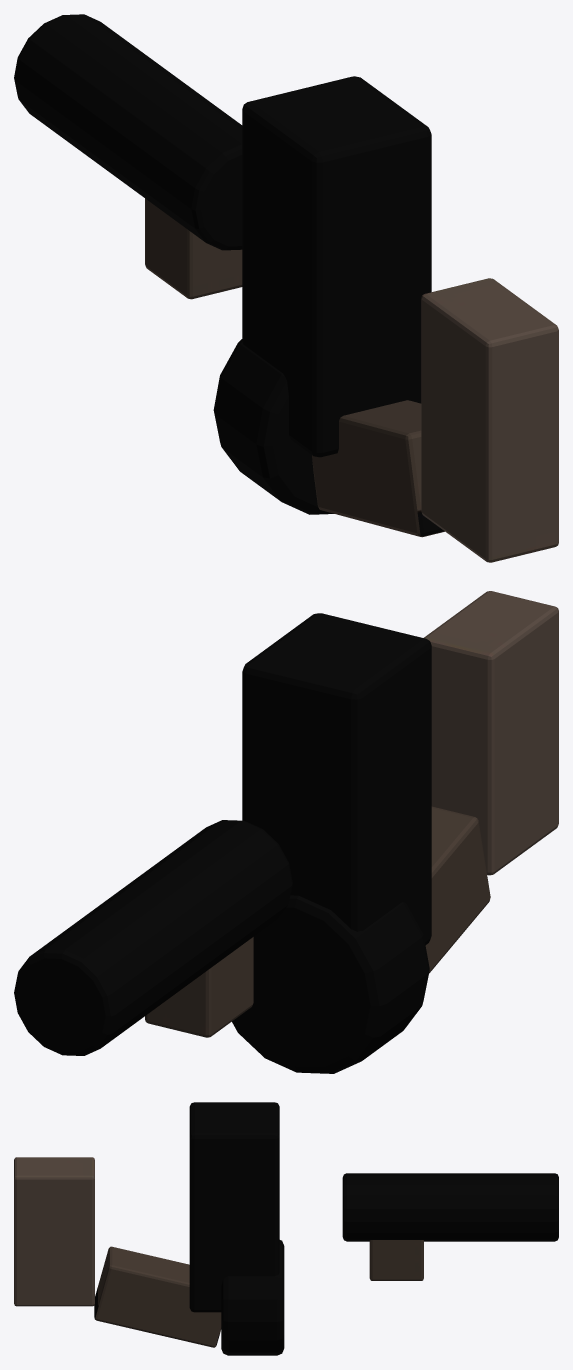
The model's file is grenadelauncher.glb.
3 views of the same model, one above another, from view 1: azimuth 30°, elevation 25°; view 2: azimuth 150°, elevation 25°; view 3: azimuth 270°, elevation 25° (orthographic). The views are drawn at different scales.
Visible parts, largest first — view 1: Body, Stock, Barrel, Foregrip; view 2: Body, Barrel, Stock, Foregrip; view 3: Body, Barrel, Stock, Foregrip.
Part boxes in pixels (x1,y1,x2,y2): Body: (213,76,431,514); Stock: (421,278,558,562); Barrel: (14,14,242,250); Foregrip: (145,198,444,537); Body: (232,613,431,1073); Barrel: (14,820,292,1055); Stock: (424,591,558,875); Foregrip: (145,806,490,1037); Body: (189,1102,284,1355); Barrel: (342,1173,558,1241); Stock: (14,1157,94,1306); Foregrip: (94,1240,423,1347).
Bounding box in the file's own units: 0.13 × 0.285 × 0.605.
Materials: 4 (2 with a texture image).
